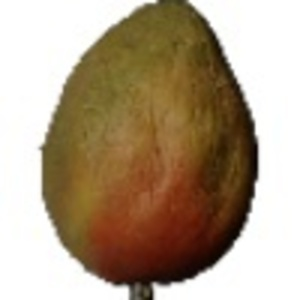mamão: (33, 2, 264, 286)
